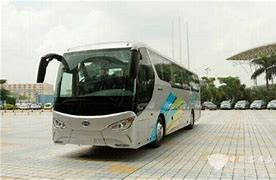bigcar: (39, 32, 206, 150)
